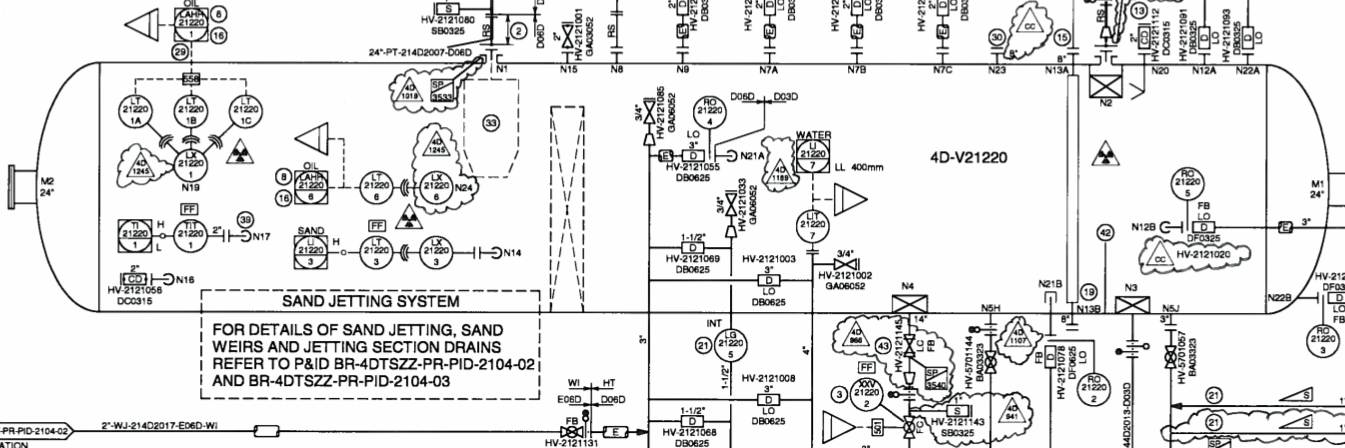Instrument: (792, 206, 836, 251), (165, 91, 214, 131), (416, 169, 460, 213), (1164, 160, 1208, 204), (1301, 318, 1343, 364), (1075, 368, 1115, 416), (355, 162, 394, 208), (353, 233, 396, 274), (171, 217, 215, 257), (689, 90, 730, 132), (115, 89, 155, 131), (171, 147, 213, 187), (712, 325, 752, 366), (418, 231, 456, 273), (847, 373, 885, 414), (229, 86, 264, 130)
Instrument-square: (288, 229, 332, 275), (288, 165, 333, 209), (791, 135, 836, 178), (113, 213, 154, 257), (171, 4, 212, 44)
